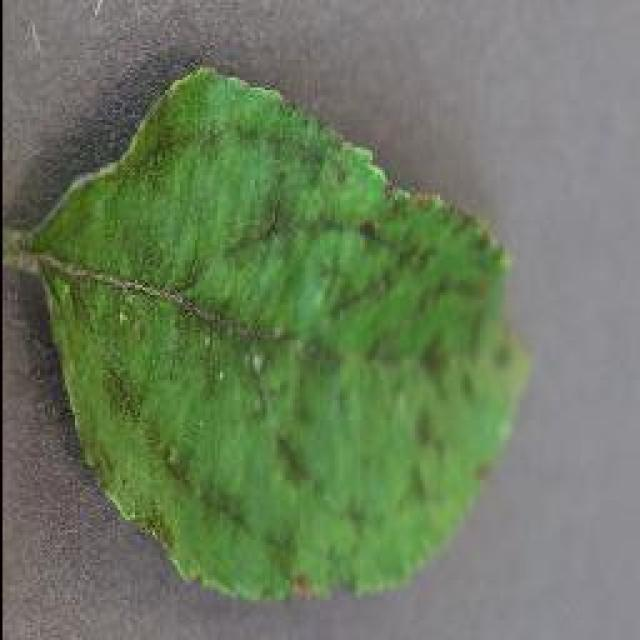apple scab disease: (15, 60, 533, 602)
